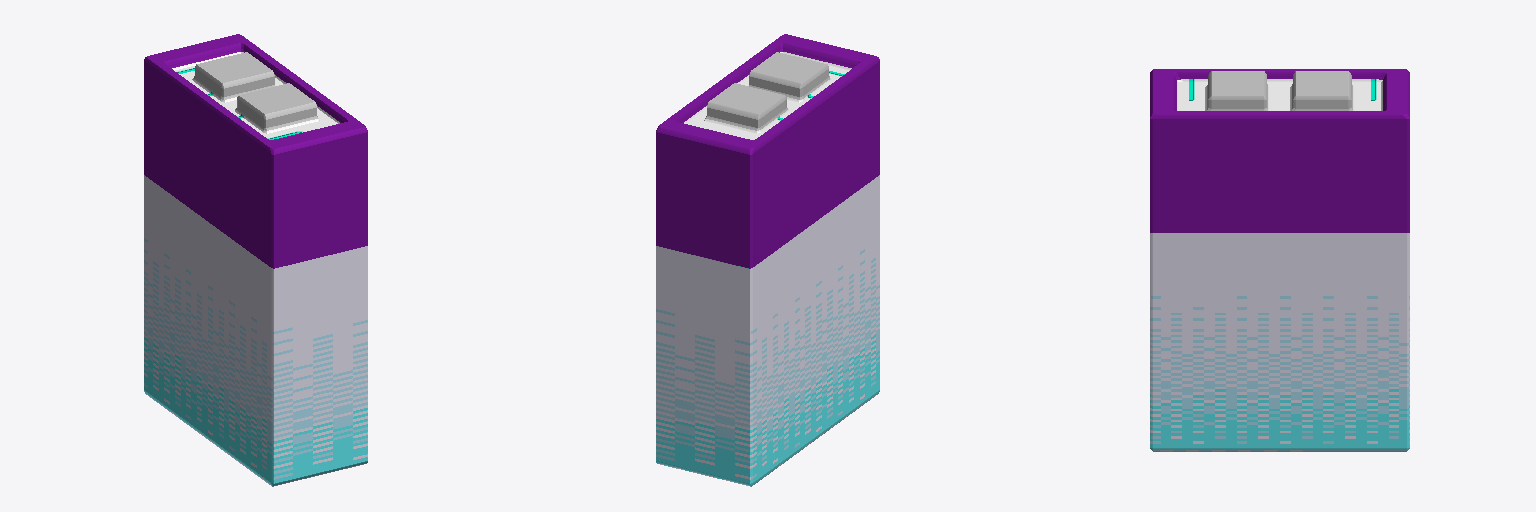
The picture shows the model from 3 angles: view 1: azimuth 30°, elevation 25°; view 2: azimuth 150°, elevation 25°; view 3: azimuth 270°, elevation 25°; orthographic projection.
Parts seen in each view (by area): view 1: Cube; view 2: Cube; view 3: Cube.
Boxes of the visible parts, box(x1,y1,x2,y2) form: Cube: box(144, 34, 367, 486); Cube: box(656, 34, 879, 486); Cube: box(1150, 69, 1409, 451).
Bounding box in the file's own units: 0.6 × 2.05 × 1.4.
Materials: 4 (2 with a texture image).